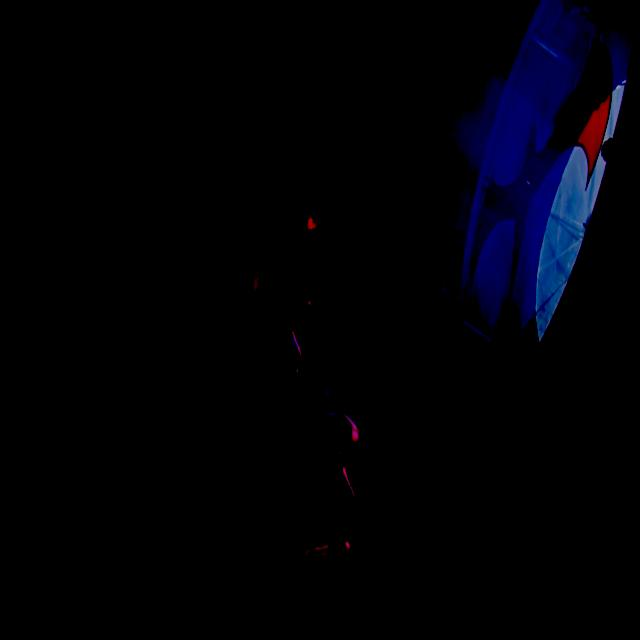Motorbike: (31, 307, 371, 563)
